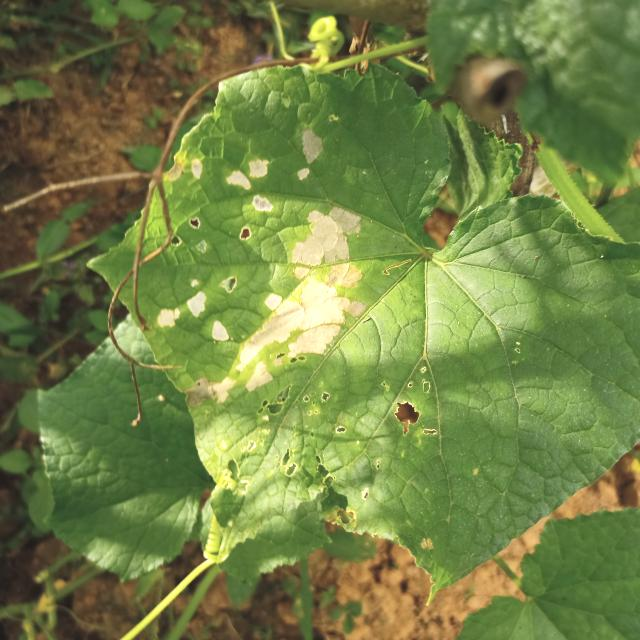disease_cucumber: (151, 129, 370, 408)
